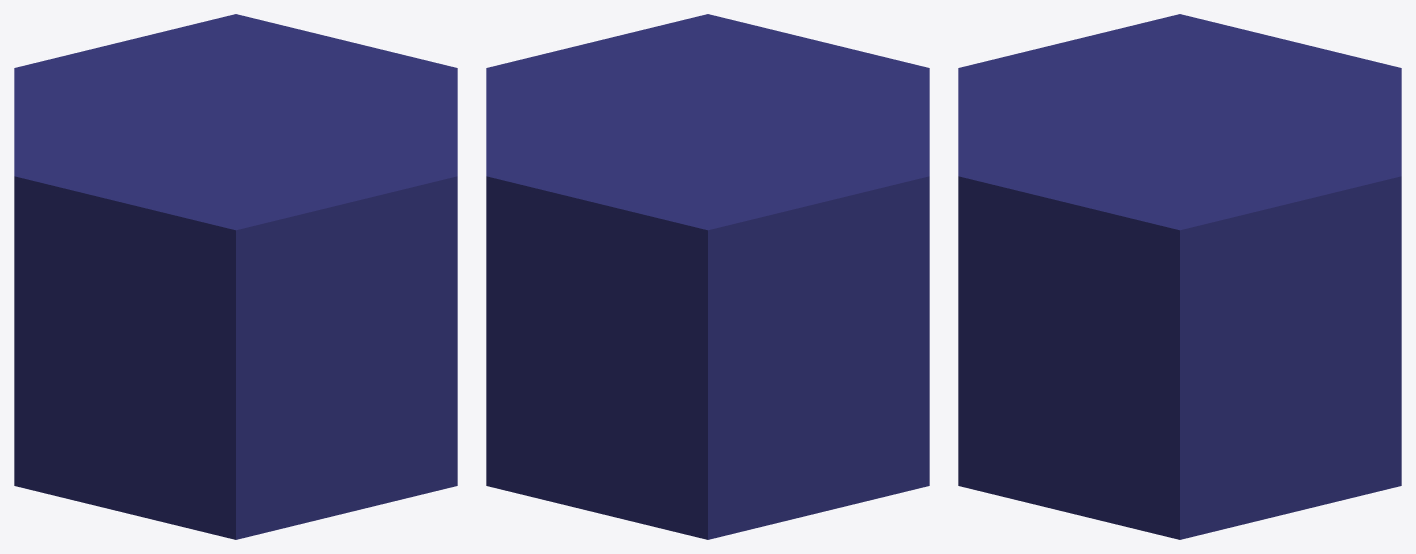
3 views of the same model, side by side, from view 1: azimuth 30°, elevation 25°; view 2: azimuth 150°, elevation 25°; view 3: azimuth 270°, elevation 25° (orthographic).
Parts seen in each view (by area): view 1: solid 4-col; view 2: solid 4-col; view 3: solid 4-col.
Boxes of the visible parts, box(x1,y1,x2,y2) form: solid 4-col: box(14, 14, 457, 539); solid 4-col: box(486, 14, 929, 539); solid 4-col: box(958, 14, 1401, 539).
Size of the model in its own units: 1.73 by 1.16 by 1.5.
